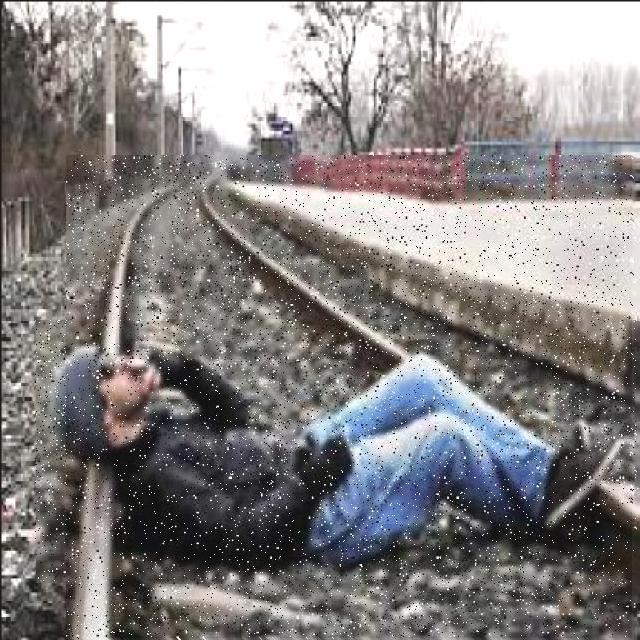rail: (68, 157, 633, 639)
